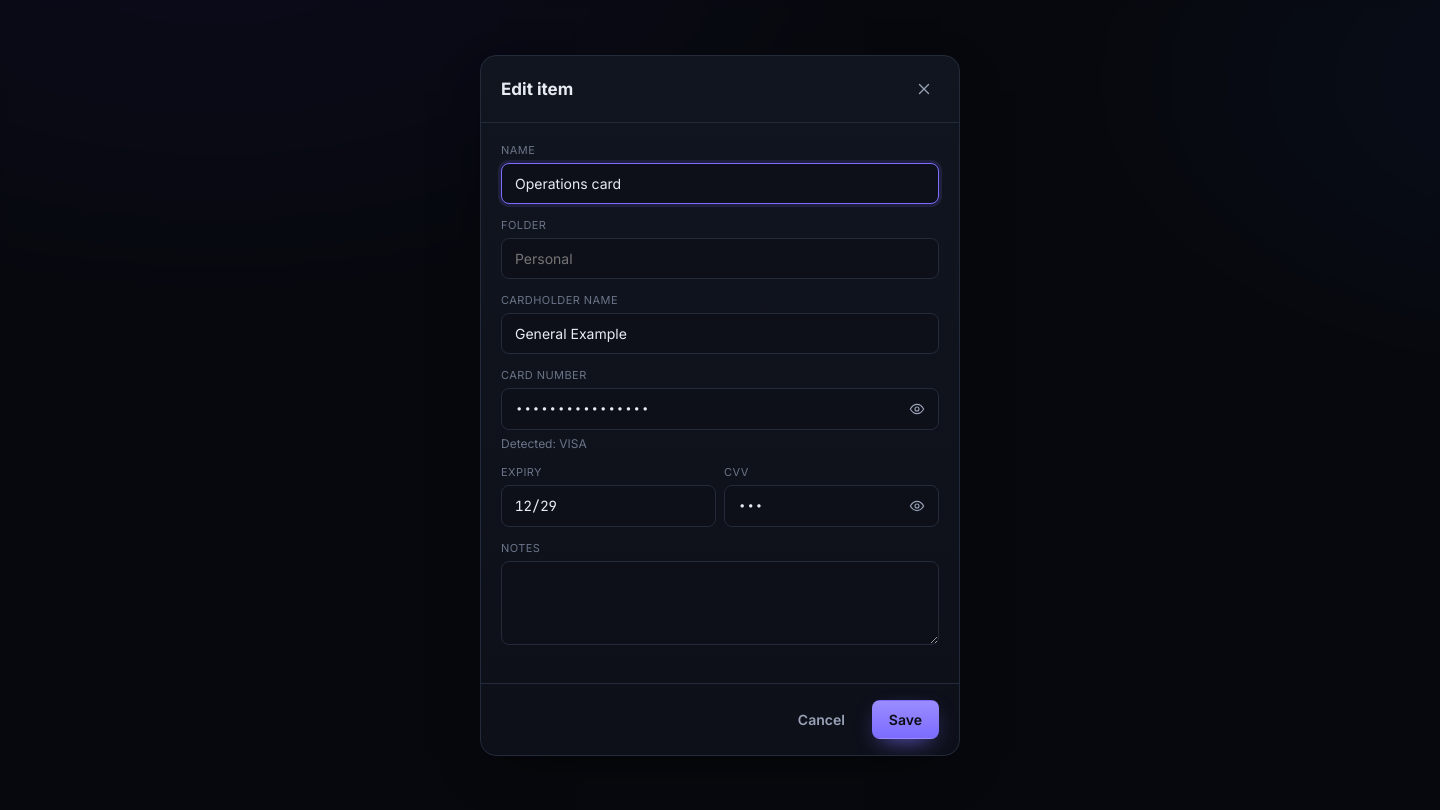
it: ItemEditor secret fields › masks card number and CVV independently with payment-field annotations
The width and height of the screenshot is (1440, 810).
Check: the field labelled "Cardholder name" holds "General Example", box [501, 312, 939, 354]
Click the button named "Show card number" at x=917, y=408, box [902, 394, 932, 424]
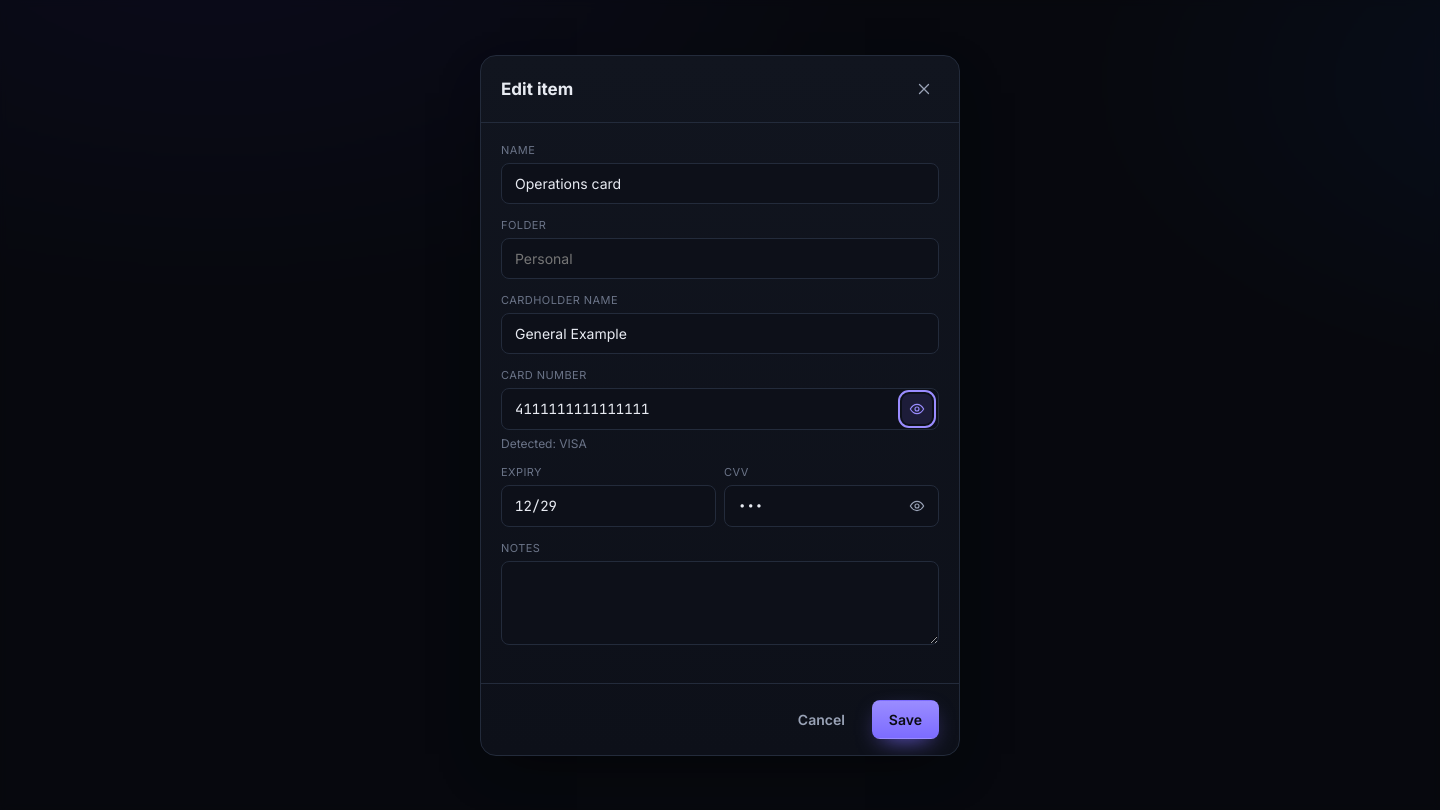
Check: the field labelled "Card number" shows its text, box [501, 388, 939, 430]
